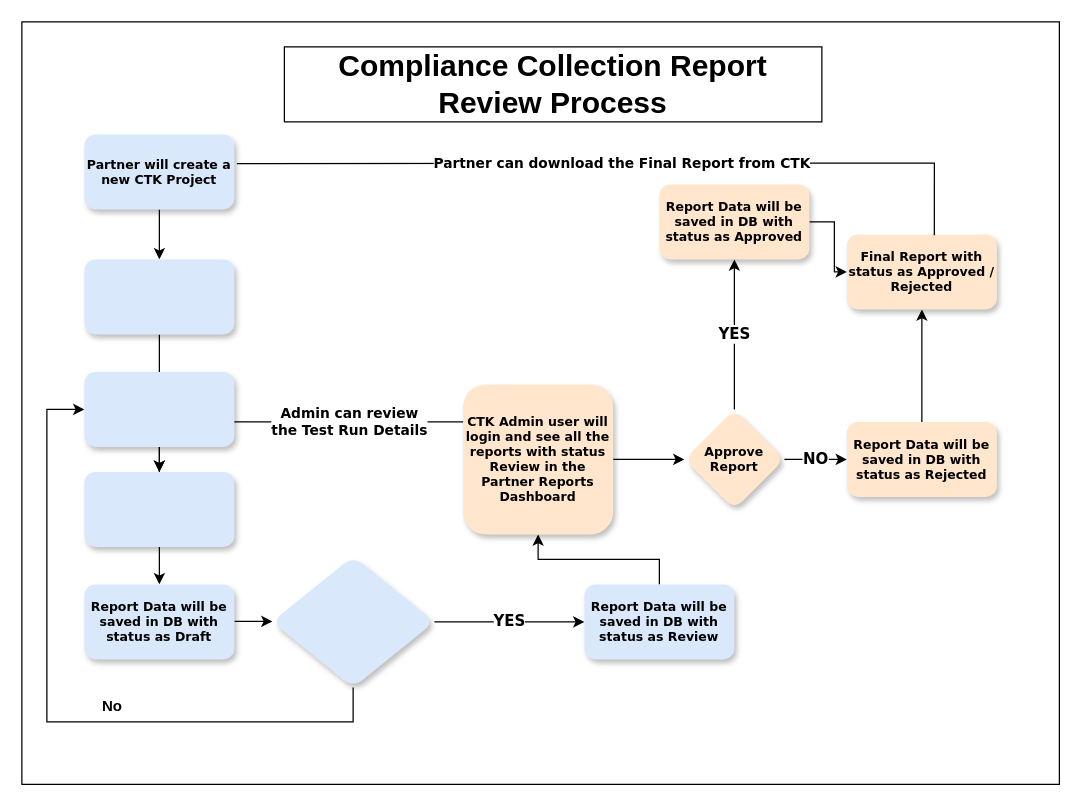
The diagram is 1081 pixels wide and 806 high, and some of its shapes have lost their labels. Each missing label, with the centre of its shape:
A Compliance Collection will be added by default for the project: the point at 160,298
Partner will generate draft report for this test run: the point at 160,510
Partner will run compliance collection: the point at 160,410
Submit report for Review?: the point at 353,623
